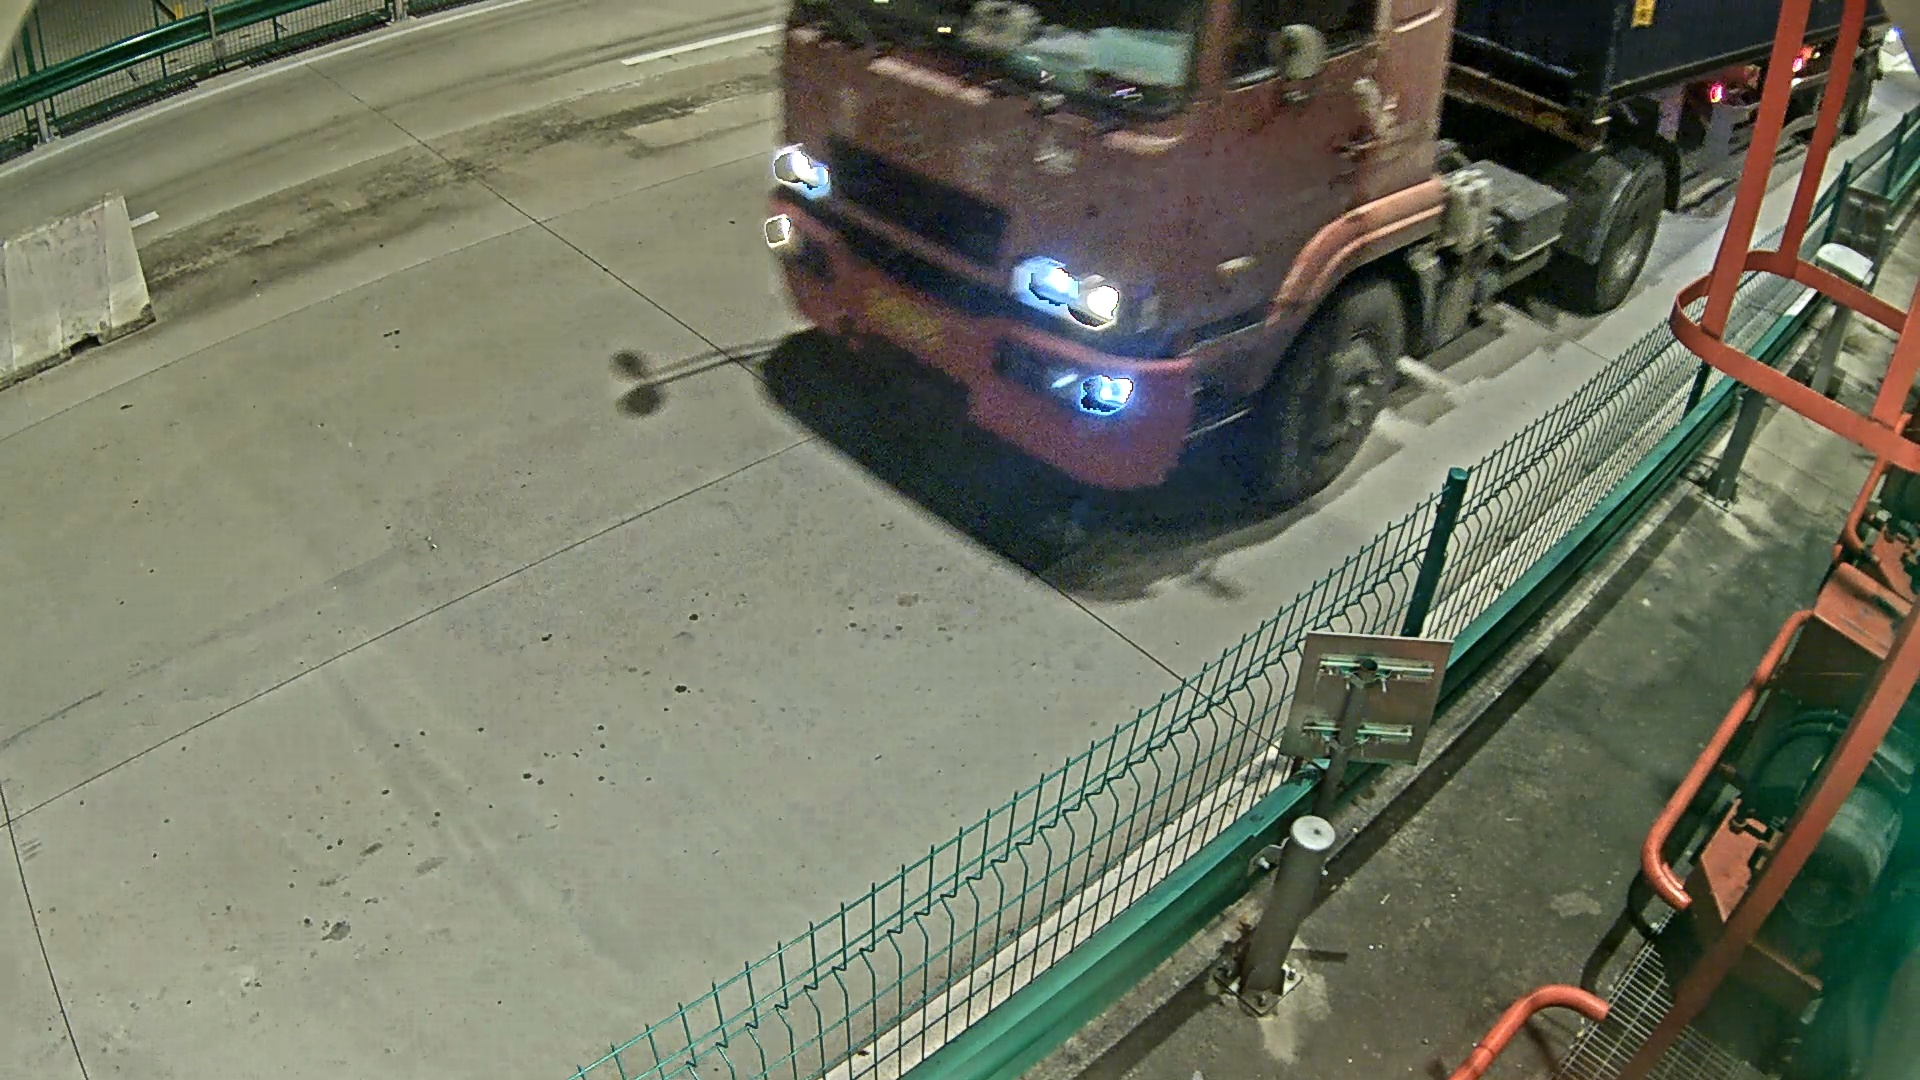head: (763, 14, 1402, 502)
plate: (856, 285, 960, 352)
